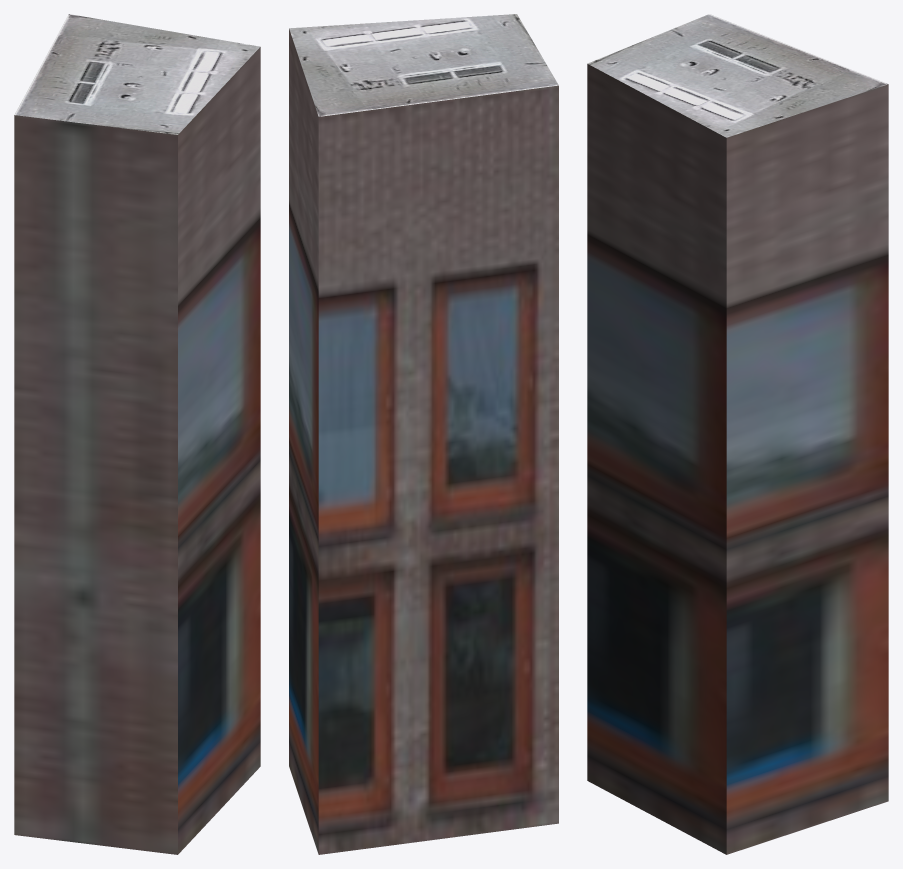
The model's file is EduTex__15.fbx.
3 renders of one model, left to right at view 1: azimuth 30°, elevation 25°; view 2: azimuth 150°, elevation 25°; view 3: azimuth 270°, elevation 25°, orthographic. The views are drawn at different scales.
Visible parts, largest first — view 1: CityEngineMaterial_9_m, CityEngineMaterial_8_m; view 2: CityEngineMaterial_9_m, CityEngineMaterial_8_m; view 3: CityEngineMaterial_9_m, CityEngineMaterial_8_m.
Part boxes in pixels (box(x1,y1,x2,y2)): CityEngineMaterial_9_m: box(14, 47, 260, 854); CityEngineMaterial_8_m: box(14, 14, 259, 134); CityEngineMaterial_9_m: box(289, 29, 558, 854); CityEngineMaterial_8_m: box(289, 14, 558, 116); CityEngineMaterial_9_m: box(587, 64, 888, 854); CityEngineMaterial_8_m: box(587, 14, 888, 137).
Bounding box in the file's own units: 2.22 × 6 × 2.29.
Materials: 2 (2 with a texture image).
